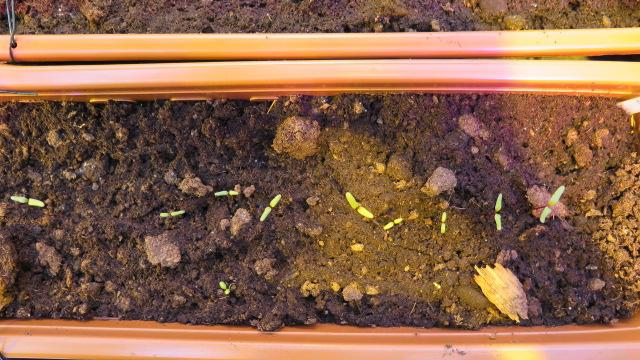crop: (538, 183, 566, 223), (341, 188, 375, 219), (256, 191, 284, 221), (4, 192, 48, 208), (488, 190, 505, 231), (379, 215, 405, 231), (153, 206, 190, 217), (434, 208, 448, 235), (208, 187, 243, 196)
weed: (215, 279, 232, 294)
